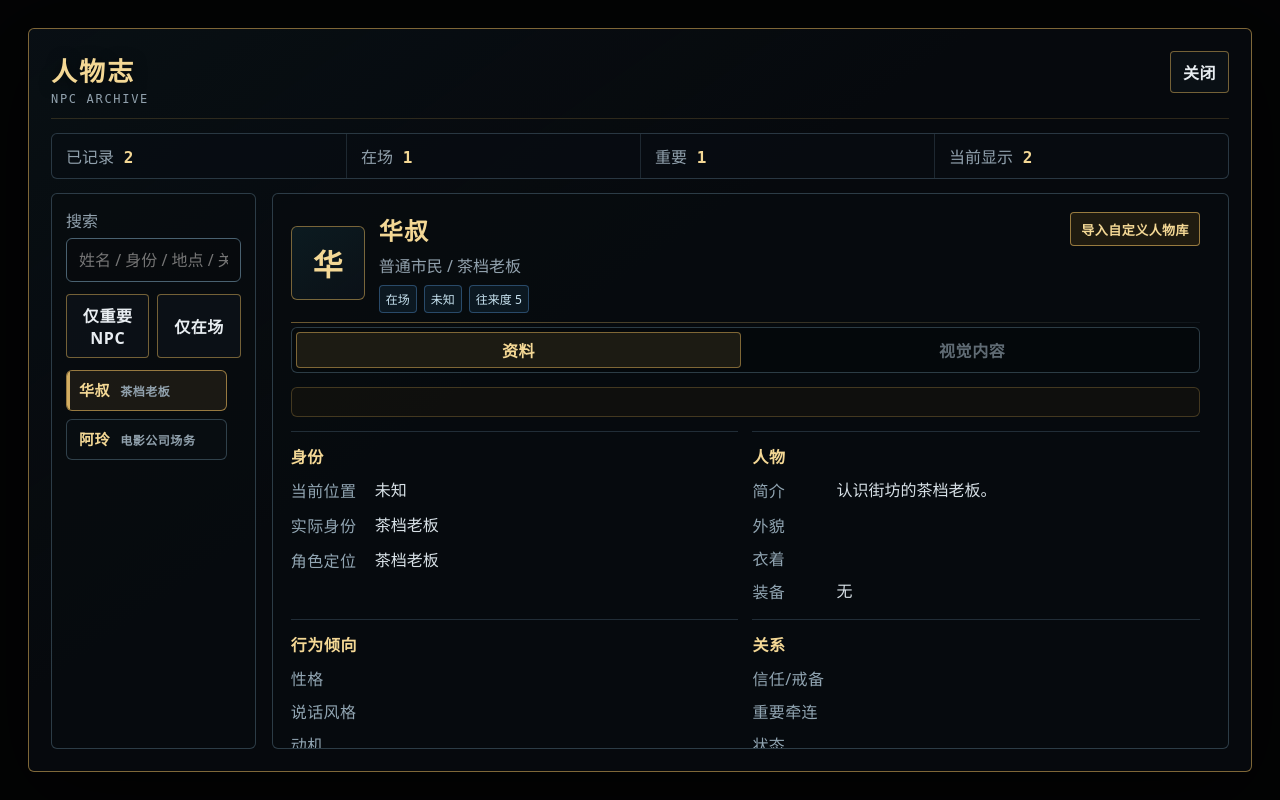
Test: CharacterArchiveModal › filters NPCs by search and present status
Step 1. Type "电影" into the field with placeholder "姓名 / 身份 / 地点 / 关系" → point(153, 260), box [66,238,241,282]
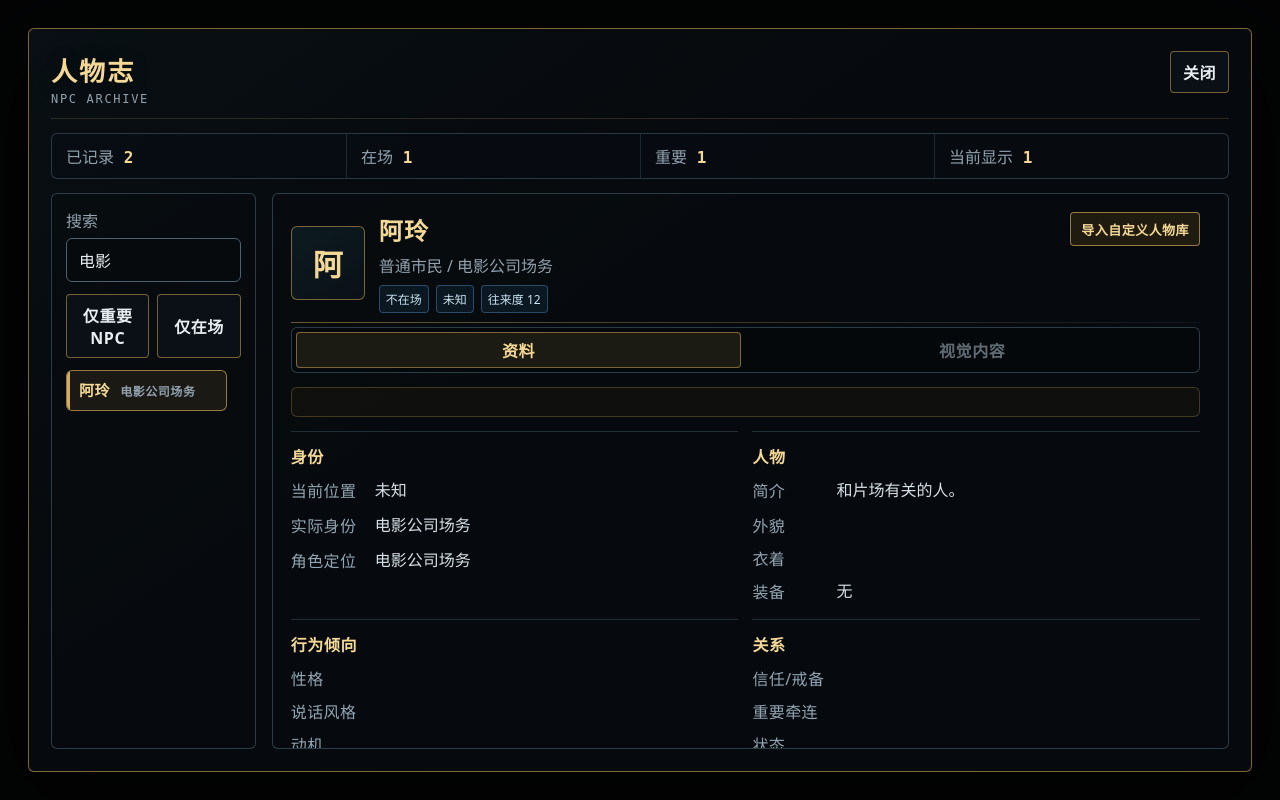
Expected: the button "阿玲 电影公司场务" is shown, [66,370,227,411]
Expected: the button "华叔" is gone
Step 2. Clear the field with placeholder "姓名 / 身份 / 地点 / 关系" → point(153, 260), box [66,238,241,282]
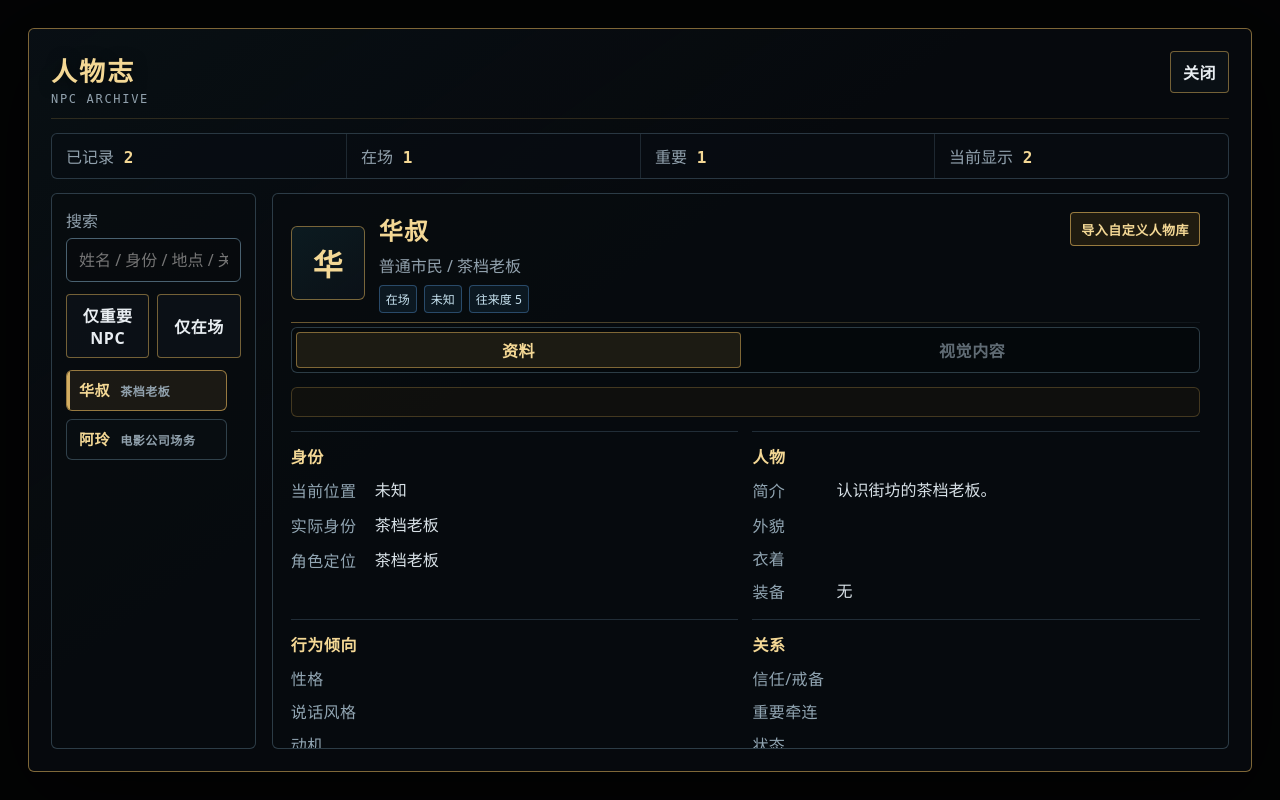
Step 3. Click the button "仅在场" → point(199, 326), box [157,294,241,358]
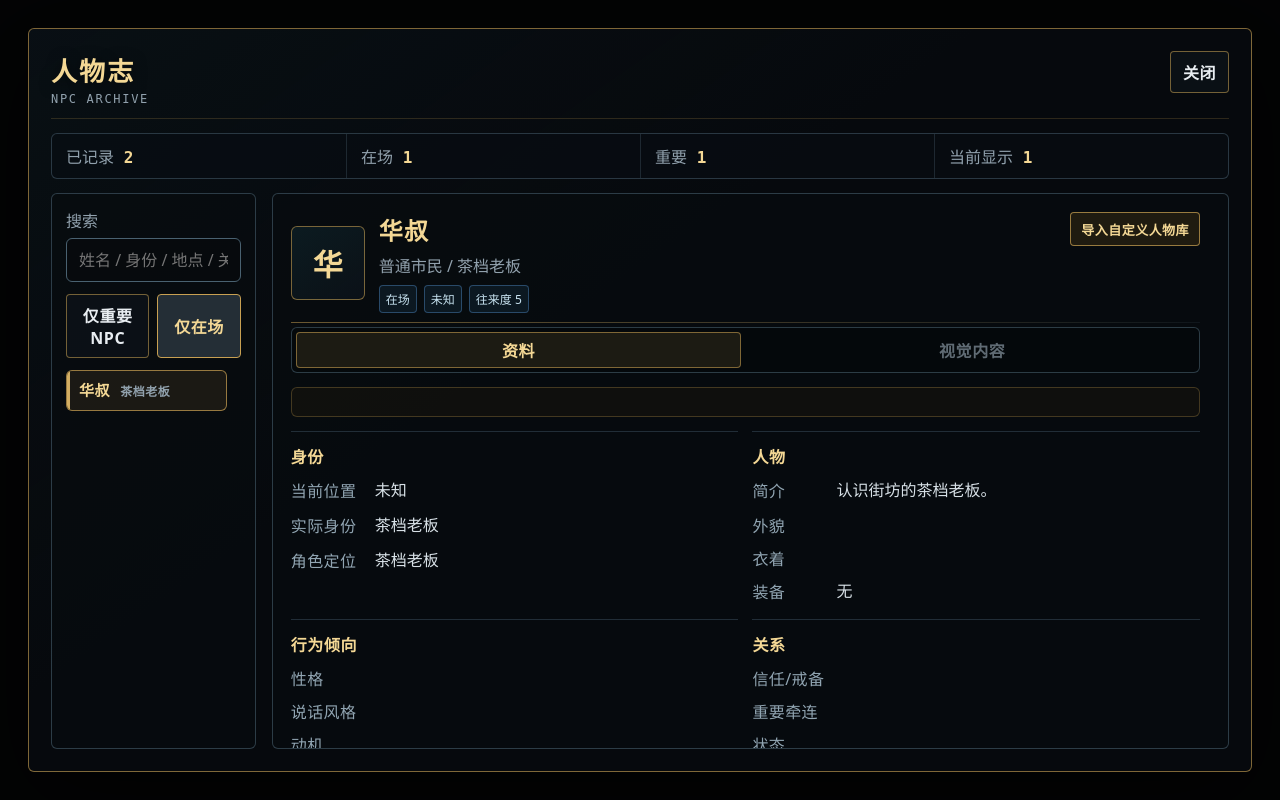
Expected: the button "华叔 茶档老板" is shown, [66,370,227,411]
Expected: the button "阿玲" is gone
